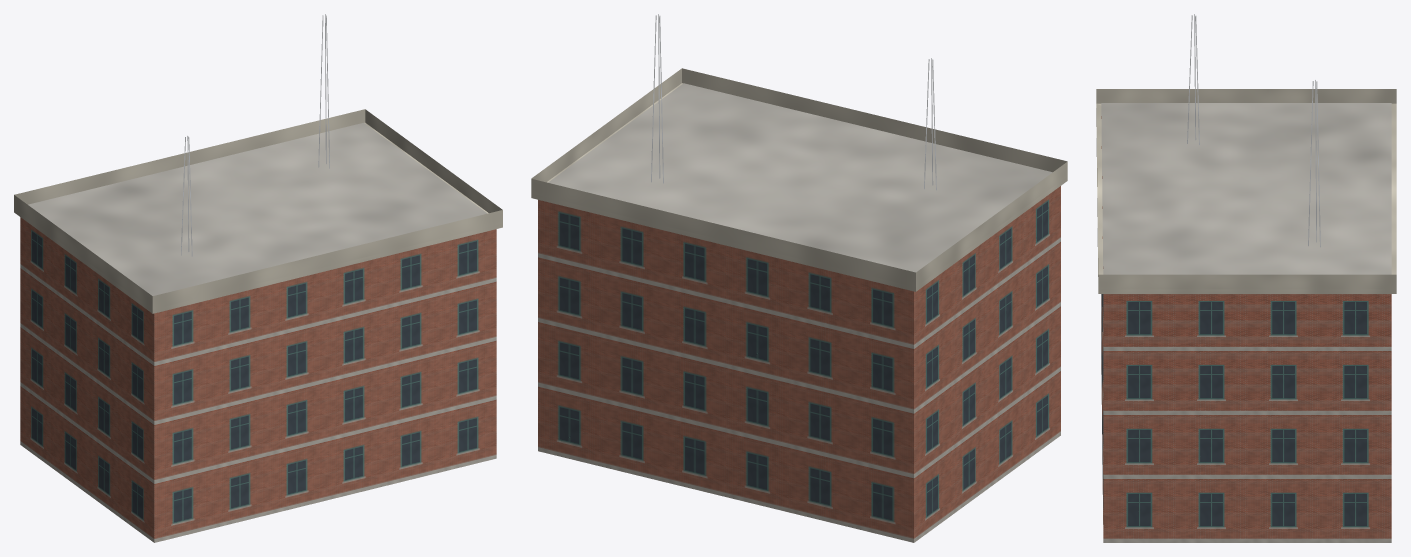
The model's file is SM_MoloItalia_Edificio4P_v2_LOD2.fbx.
3 renders of one model, left to right at view 1: azimuth 30°, elevation 25°; view 2: azimuth 150°, elevation 25°; view 3: azimuth 270°, elevation 25°, orthographic. The views are drawn at different scales.
Visible parts, largest first — view 1: SM_MoloItalia_Edificio4P_v2_LOD2; view 2: SM_MoloItalia_Edificio4P_v2_LOD2; view 3: SM_MoloItalia_Edificio4P_v2_LOD2.
Boxes of the visible parts, box(x1,y1,x2,y2) form: SM_MoloItalia_Edificio4P_v2_LOD2: box(14, 14, 502, 542); SM_MoloItalia_Edificio4P_v2_LOD2: box(531, 14, 1067, 542); SM_MoloItalia_Edificio4P_v2_LOD2: box(1096, 14, 1396, 542).
Bounding box in the file's own units: 2180 × 1490 × 2315.
2 materials, 2 textured.
